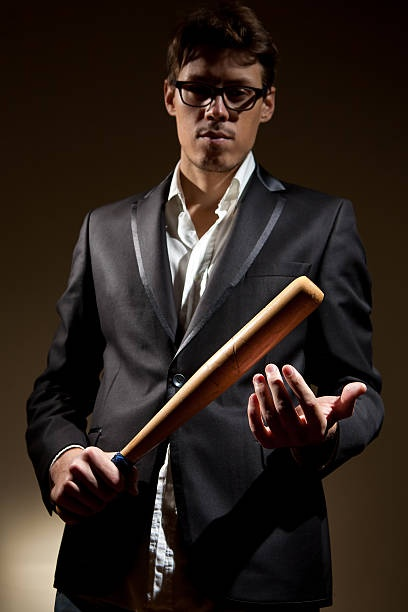bita: (99, 280, 322, 479)
